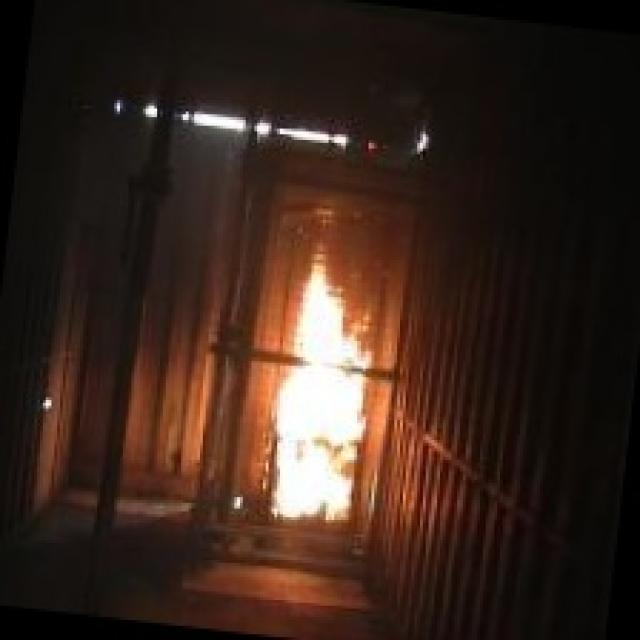fire: (256, 206, 401, 531)
